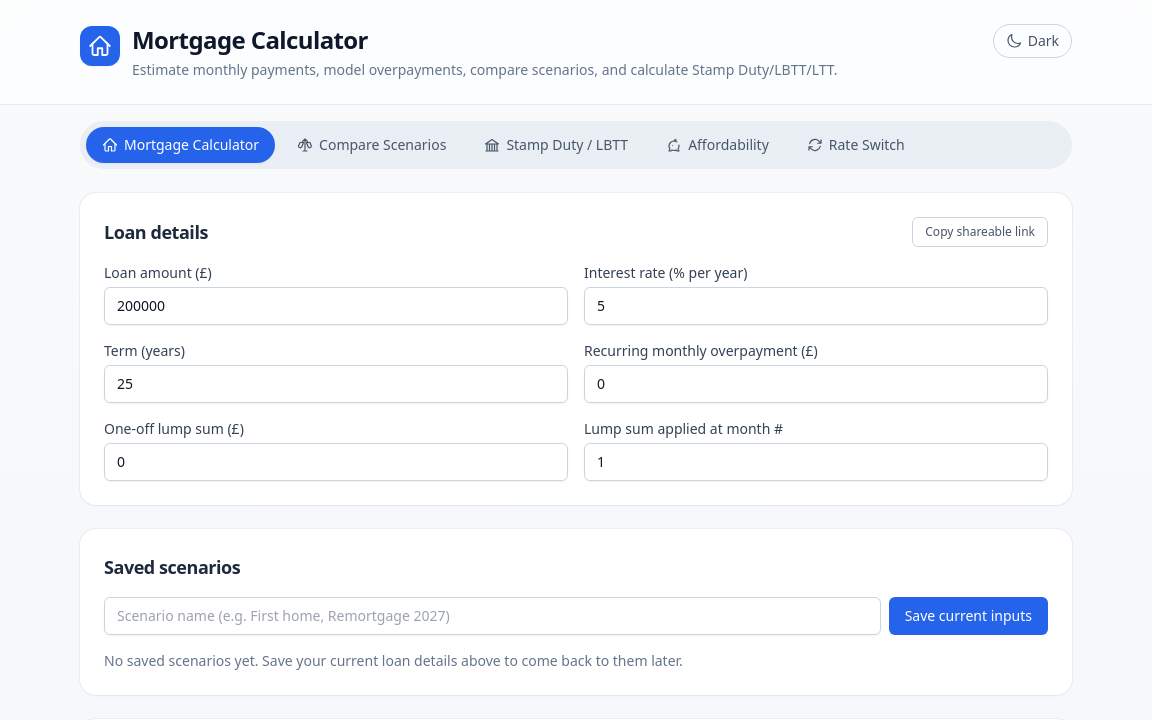
Test case: App › switches to the Compare Scenarios tab when clicked
The image size is (1152, 720).
Click the button "Compare Scenarios" at coordinates (372, 145), box [281, 127, 462, 163]
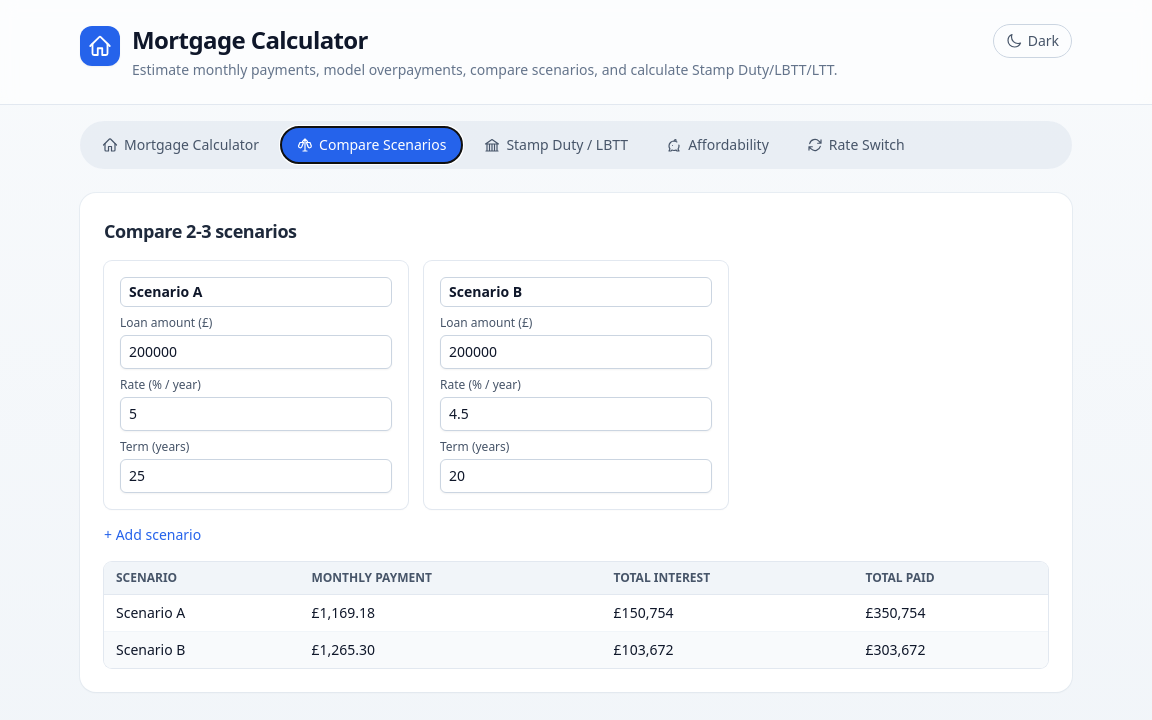
expect the heading "Compare 2-3 scenarios" is shown: met, box [104, 217, 297, 245]
expect the heading "Loan details" is gone: met
